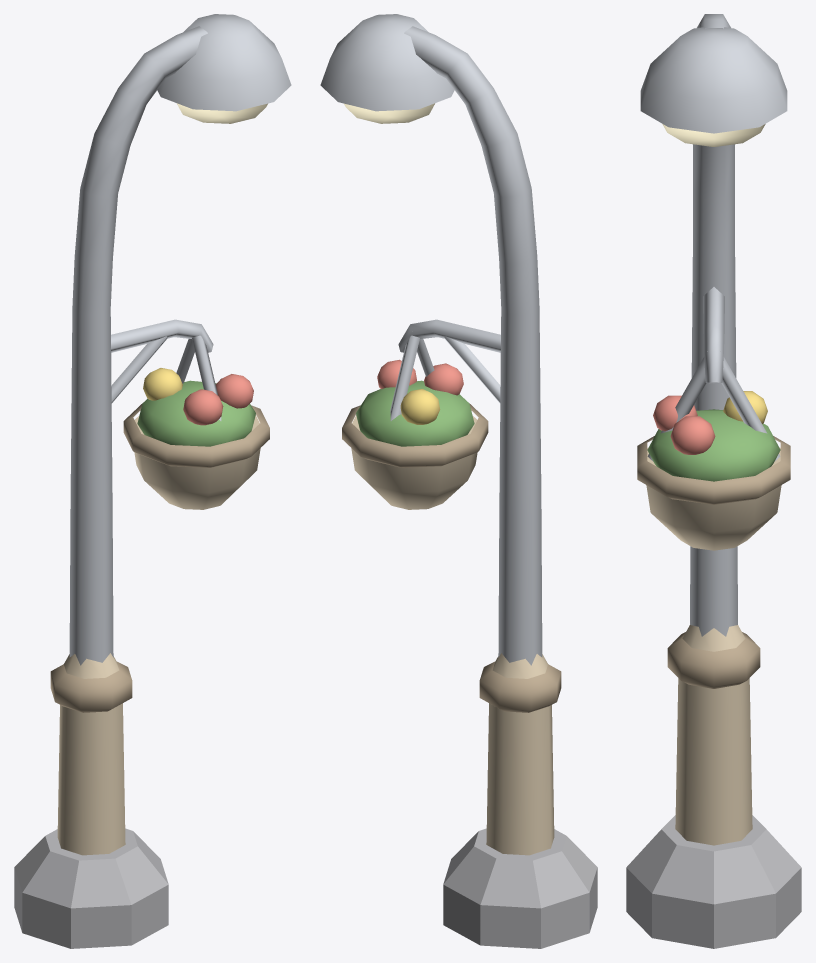
The model's file is building.streetlamp.glb.
The picture shows the model from 3 angles, left to right: view 1: azimuth 30°, elevation 25°; view 2: azimuth 150°, elevation 25°; view 3: azimuth 270°, elevation 25°; orthographic projection. The views are drawn at different scales.
Parts seen in each view (by area): view 1: Metal, Paint, Stone, PaintDark, Leaf, FruitRed, Light, FruitGold; view 2: Metal, Paint, Stone, PaintDark, Leaf, FruitRed, FruitGold, Light; view 3: Metal, Paint, Stone, PaintDark, Leaf, FruitRed, Light, FruitGold.
Boxes of the visible parts, left/top/right/bottom form: Metal: left=69, top=14, right=291, bottom=665; Paint: left=57, top=415, right=260, bottom=855; Stone: left=14, top=828, right=168, bottom=948; PaintDark: left=50, top=403, right=269, bottom=712; Leaf: left=137, top=380, right=255, bottom=446; FruitRed: left=183, top=374, right=253, bottom=425; Light: left=177, top=103, right=267, bottom=123; FruitGold: left=143, top=368, right=182, bottom=400; Metal: left=320, top=14, right=542, bottom=665; Paint: left=351, top=415, right=554, bottom=855; Stone: left=443, top=828, right=597, bottom=948; PaintDark: left=342, top=403, right=561, bottom=712; Leaf: left=356, top=380, right=474, bottom=446; FruitRed: left=377, top=359, right=463, bottom=395; FruitGold: left=400, top=389, right=440, bottom=424; Light: left=344, top=103, right=434, bottom=123; Metal: left=640, top=14, right=787, bottom=636; Paint: left=646, top=447, right=781, bottom=845; Stone: left=626, top=815, right=801, bottom=948; PaintDark: left=637, top=436, right=790, bottom=688; Leaf: left=647, top=409, right=780, bottom=481; FruitRed: left=653, top=395, right=715, bottom=454; Light: left=662, top=124, right=765, bottom=146; FruitGold: left=723, top=391, right=767, bottom=423.
Bounding box in the file's own units: 0.47 × 1.49 × 0.25.
